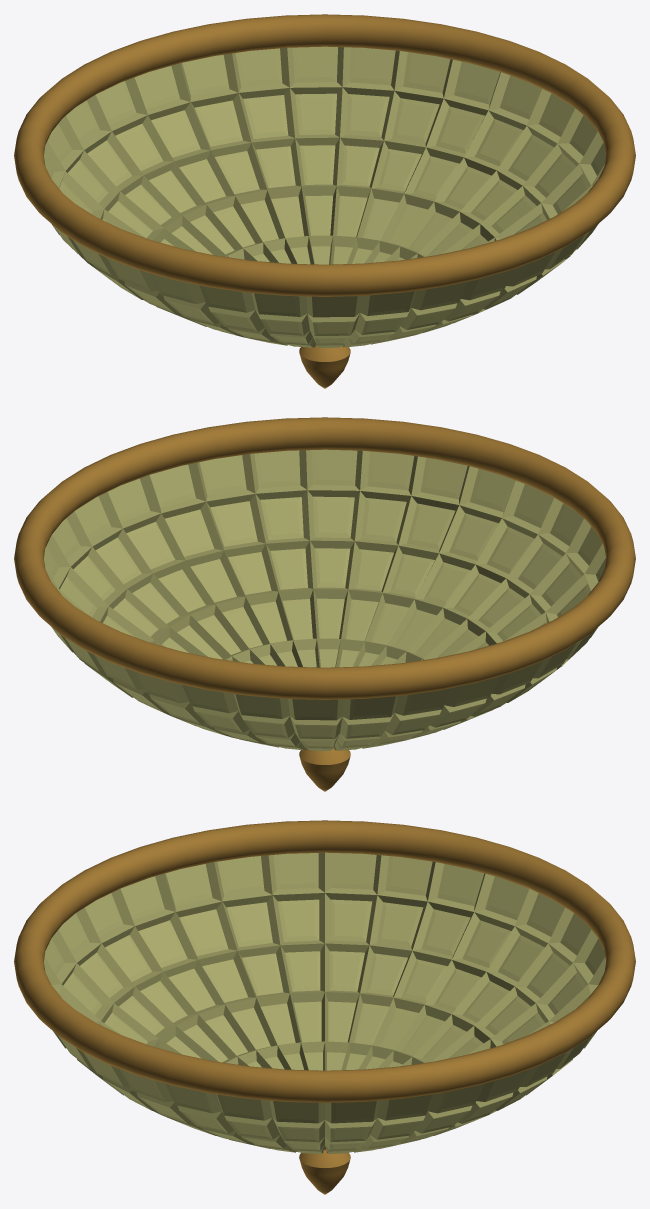
The model's file is Hall Light.glb.
3 views of the same model, one above another, from view 1: azimuth 30°, elevation 25°; view 2: azimuth 150°, elevation 25°; view 3: azimuth 270°, elevation 25° (orthographic).
Parts seen in each view (by area): view 1: hallls light; view 2: hallls light; view 3: hallls light.
Part boxes in pixels (x1=…): hallls light: x1=14, y1=14, x2=635, y2=388; hallls light: x1=14, y1=417, x2=635, y2=791; hallls light: x1=14, y1=820, x2=635, y2=1194.
Bounding box in the file's own units: 0.38 × 0.1668 × 0.38.
